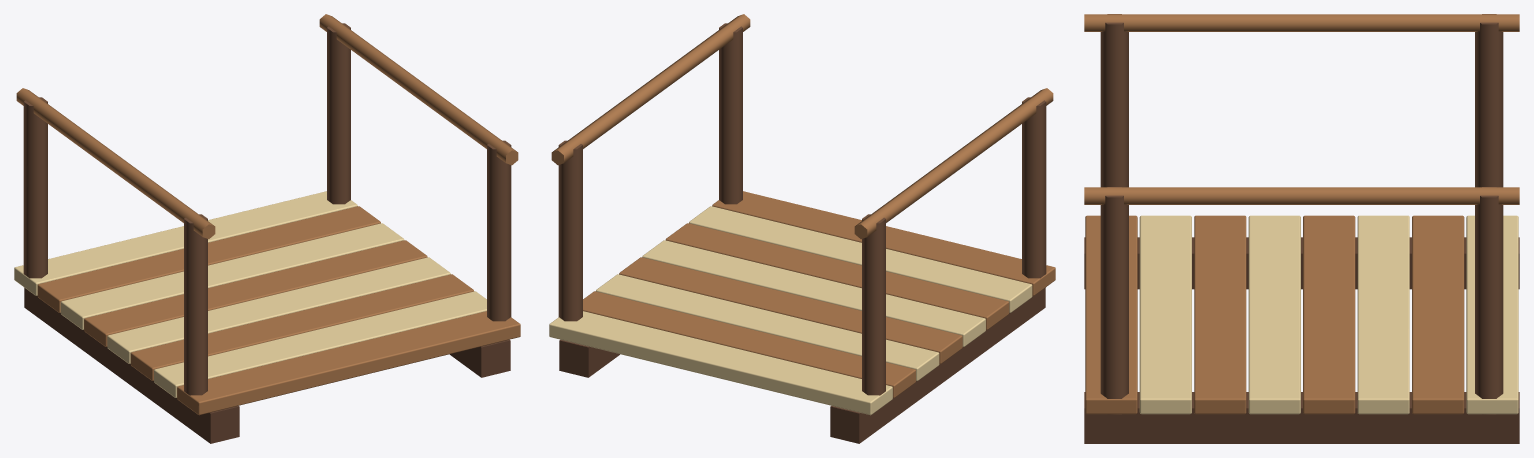
The model's file is wooden-bridge.glb.
3 views of the same model, side by side, from view 1: azimuth 30°, elevation 25°; view 2: azimuth 150°, elevation 25°; view 3: azimuth 270°, elevation 25° (orthographic). The views are drawn at different scales.
Parts seen in each view (by area): view 1: plank-7, plank-3, plank-1, plank-2, plank-4, plank-5, plank-6, plank-0, beam--0.84, post--0.94--0.86, post-0.94-0.86, post--0.94-0.86 (+4 smaller); view 2: plank-0, plank-4, plank-5, plank-6, plank-3, plank-2, plank-1, plank-7, beam--0.84, post--0.94-0.86, post-0.94--0.86, post--0.94--0.86 (+4 smaller); view 3: beam-0.84, plank-1, plank-2, plank-3, plank-4, plank-5, plank-6, handrail--0.94, handrail-0.94, post-0.94--0.86, post-0.94-0.86, plank-0 (+4 smaller).
Part boxes in pixels (x1=…): plank-7: x1=177, y1=311, x2=520, y2=415; plank-3: x1=84, y1=240, x2=427, y2=346; plank-1: x1=37, y1=206, x2=380, y2=312; plank-2: x1=60, y1=223, x2=404, y2=329; plank-4: x1=107, y1=257, x2=450, y2=363; plank-5: x1=130, y1=274, x2=473, y2=380; plank-6: x1=154, y1=291, x2=486, y2=397; plank-0: x1=14, y1=191, x2=357, y2=295; beam--0.84: x1=24, y1=288, x2=239, y2=443; post--0.94--0.86: x1=23, y1=97, x2=47, y2=289; post-0.94-0.86: x1=487, y1=140, x2=511, y2=321; post--0.94-0.86: x1=184, y1=214, x2=207, y2=408; plank-0: x1=549, y1=311, x2=892, y2=415; plank-4: x1=642, y1=240, x2=985, y2=346; plank-5: x1=665, y1=223, x2=1009, y2=329; plank-6: x1=689, y1=206, x2=1032, y2=312; plank-3: x1=619, y1=257, x2=962, y2=363; plank-2: x1=596, y1=274, x2=939, y2=380; plank-1: x1=583, y1=291, x2=915, y2=397; plank-7: x1=712, y1=191, x2=1055, y2=295; beam--0.84: x1=830, y1=288, x2=1045, y2=443; post--0.94-0.86: x1=1022, y1=97, x2=1046, y2=289; post-0.94--0.86: x1=558, y1=140, x2=582, y2=321; post--0.94--0.86: x1=862, y1=214, x2=885, y2=408; beam-0.84: x1=1084, y1=392, x2=1519, y2=443; plank-1: x1=1412, y1=215, x2=1464, y2=414; plank-2: x1=1357, y1=215, x2=1409, y2=414; plank-3: x1=1303, y1=215, x2=1355, y2=414; plank-4: x1=1248, y1=215, x2=1300, y2=414; plank-5: x1=1194, y1=215, x2=1246, y2=414; plank-6: x1=1139, y1=215, x2=1191, y2=414; handrail--0.94: x1=1084, y1=14, x2=1519, y2=31; handrail-0.94: x1=1084, y1=187, x2=1519, y2=204; post-0.94--0.86: x1=1475, y1=187, x2=1503, y2=414; post-0.94-0.86: x1=1100, y1=187, x2=1128, y2=414; plank-0: x1=1466, y1=215, x2=1518, y2=414.
Bounding box in the file's own units: 2 × 1.31 × 2.
